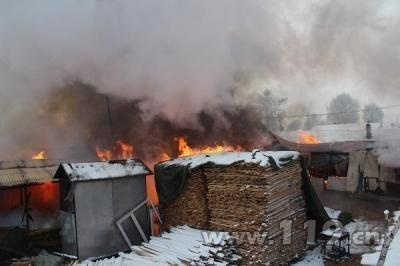fire: (172, 137, 249, 156), (96, 139, 135, 160), (297, 130, 320, 143), (31, 148, 47, 159)
